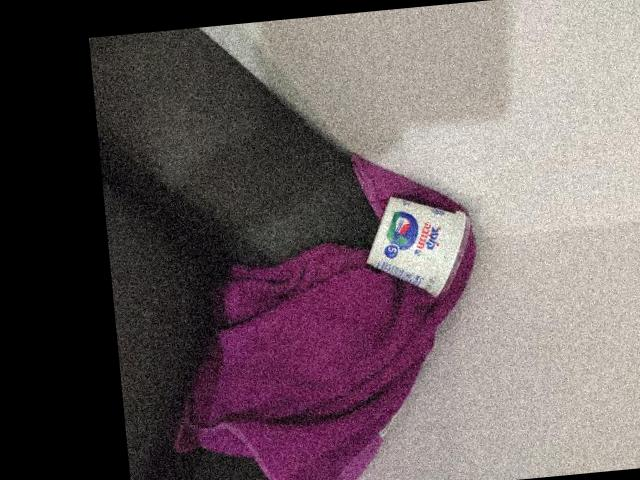cotage: (366, 194, 480, 299)
